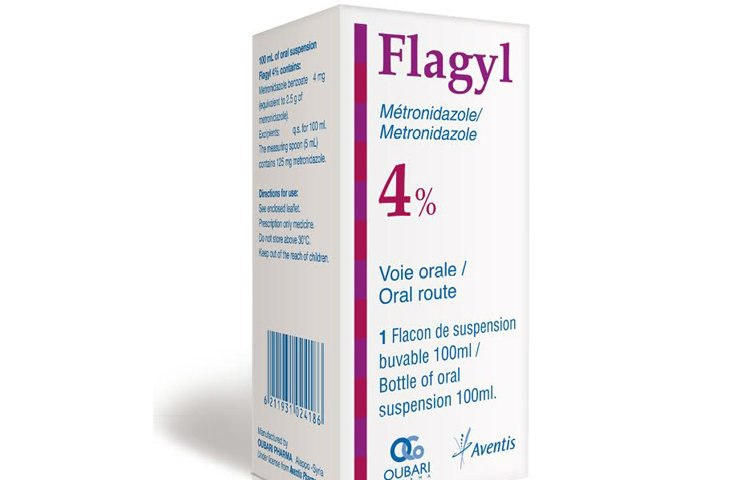Medicine: (248, 10, 539, 480)
